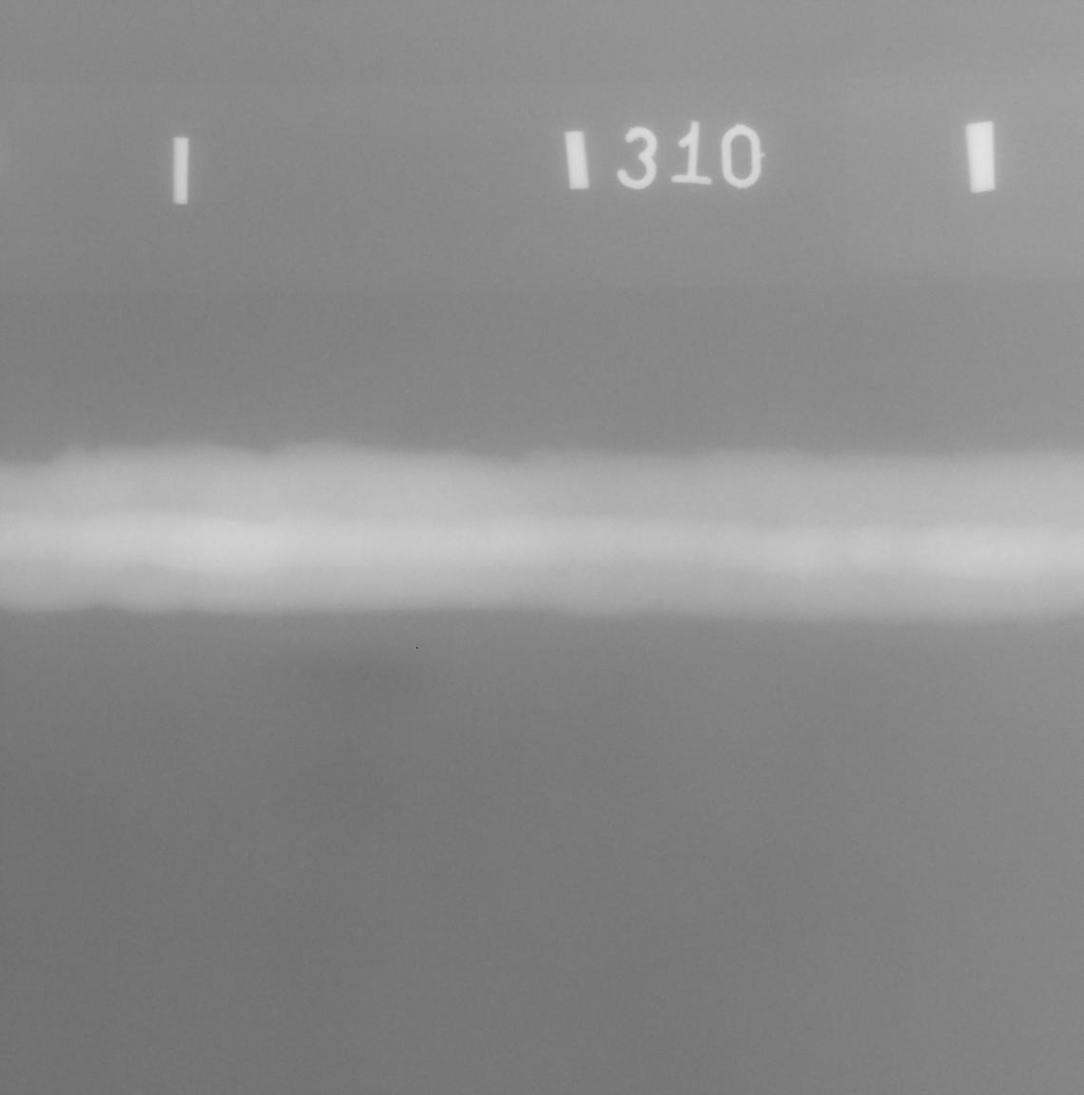Pore/Porosity: (553, 503, 557, 507)
